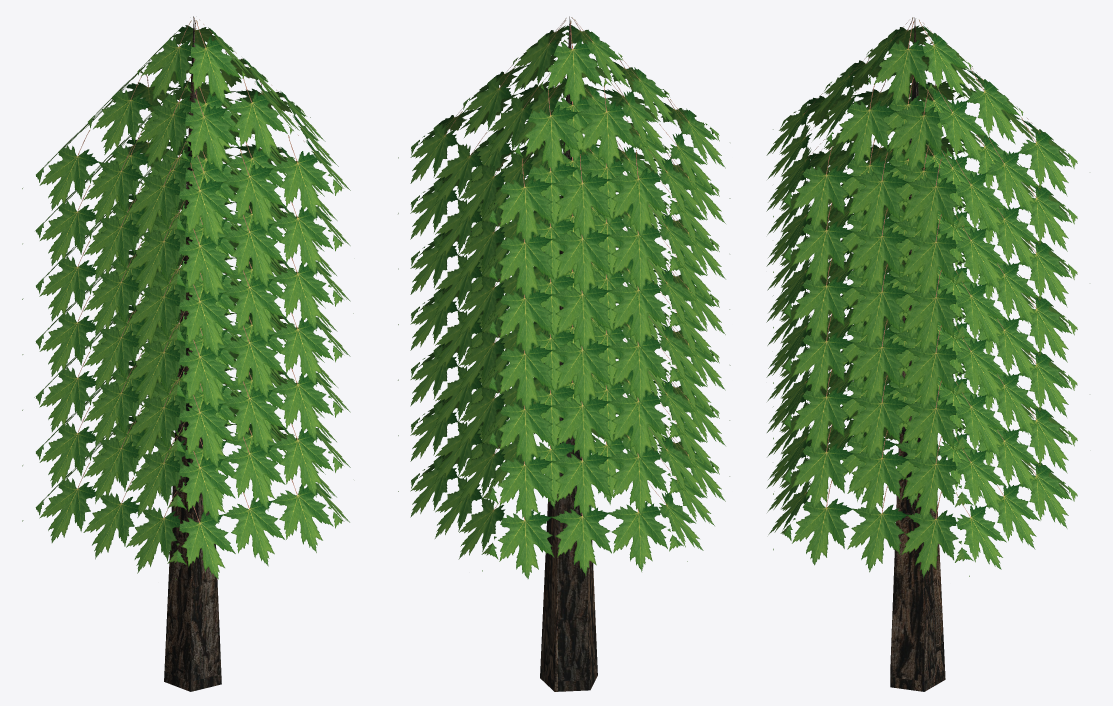
File: tree.glb
The picture shows the model from 3 angles, left to right: view 1: azimuth 30°, elevation 25°; view 2: azimuth 150°, elevation 25°; view 3: azimuth 270°, elevation 25°; orthographic projection.
Parts seen in each view (by area): view 1: Tree; view 2: Tree; view 3: Tree.
Boxes of the visible parts, <box> form: Tree: <box>22,16,353,691</box>; Tree: <box>398,16,730,691</box>; Tree: <box>766,17,1077,691</box>.
Size of the model in its own units: 5.71 by 12 by 5.43.
Materials: 2 (2 with a texture image).
